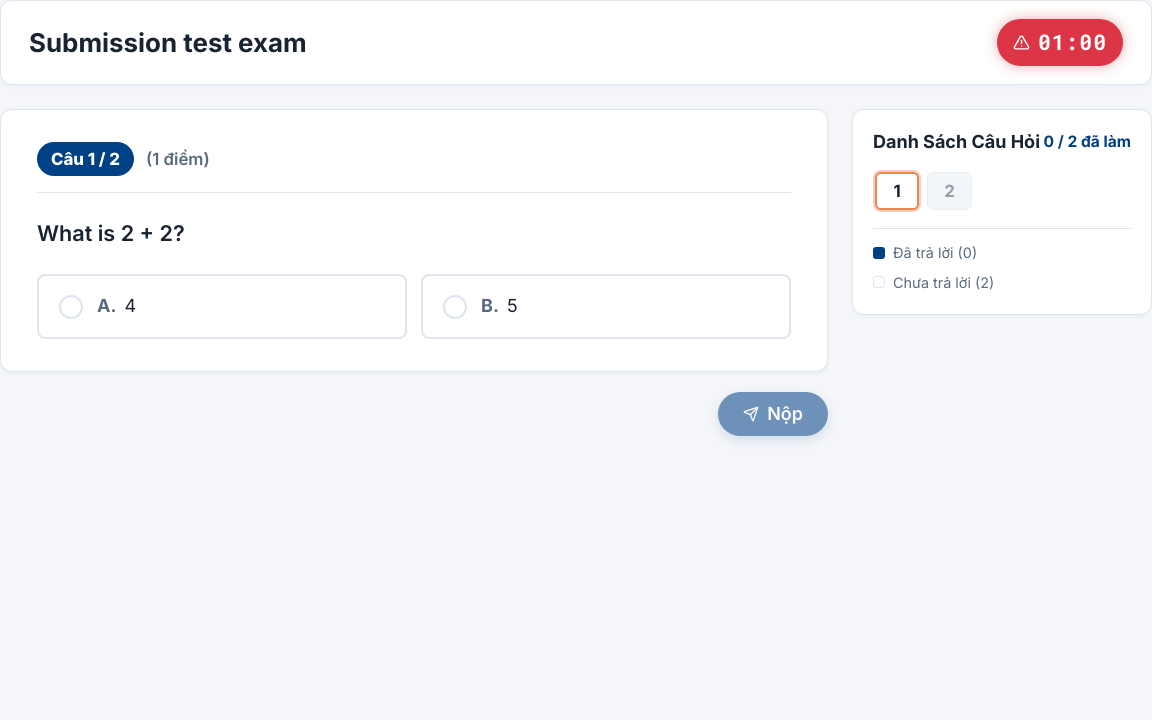
it: SequentialExamTakingView submission flow › shows incorrect feedback and waits for Continue without auto-advancing
Click the button "B. 5". click: (455, 307)
box: [421, 274, 791, 339]
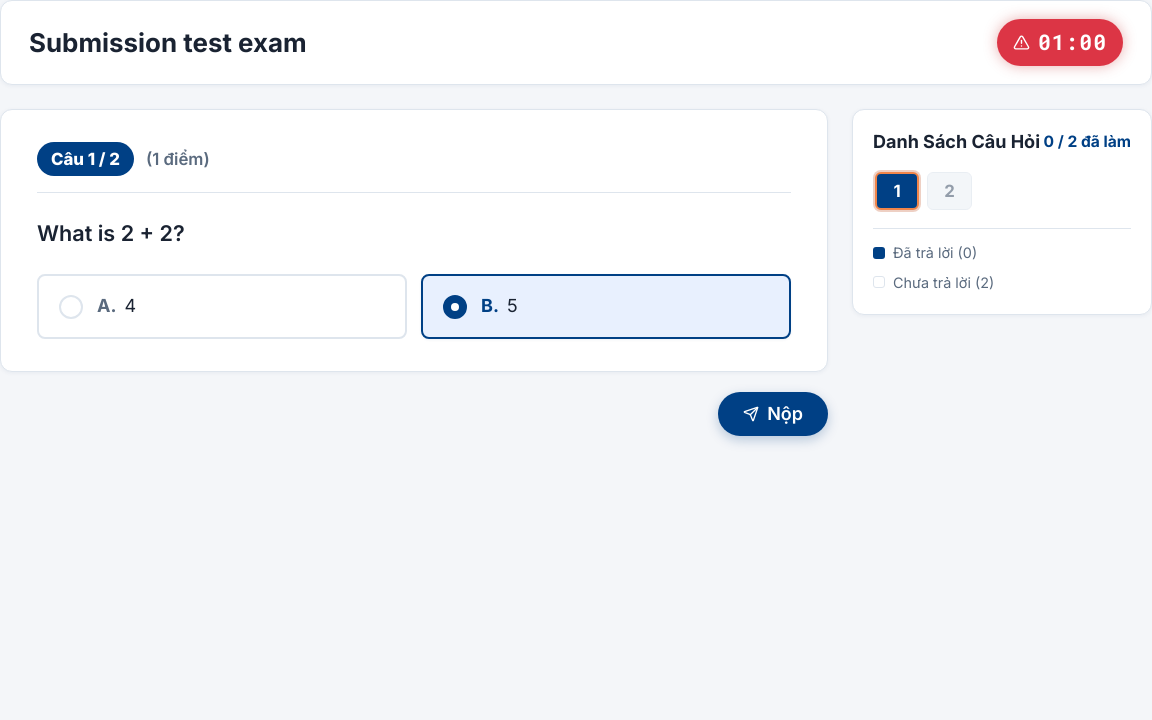
Click the button "Nộp". click: (773, 414)
box: [718, 392, 828, 436]
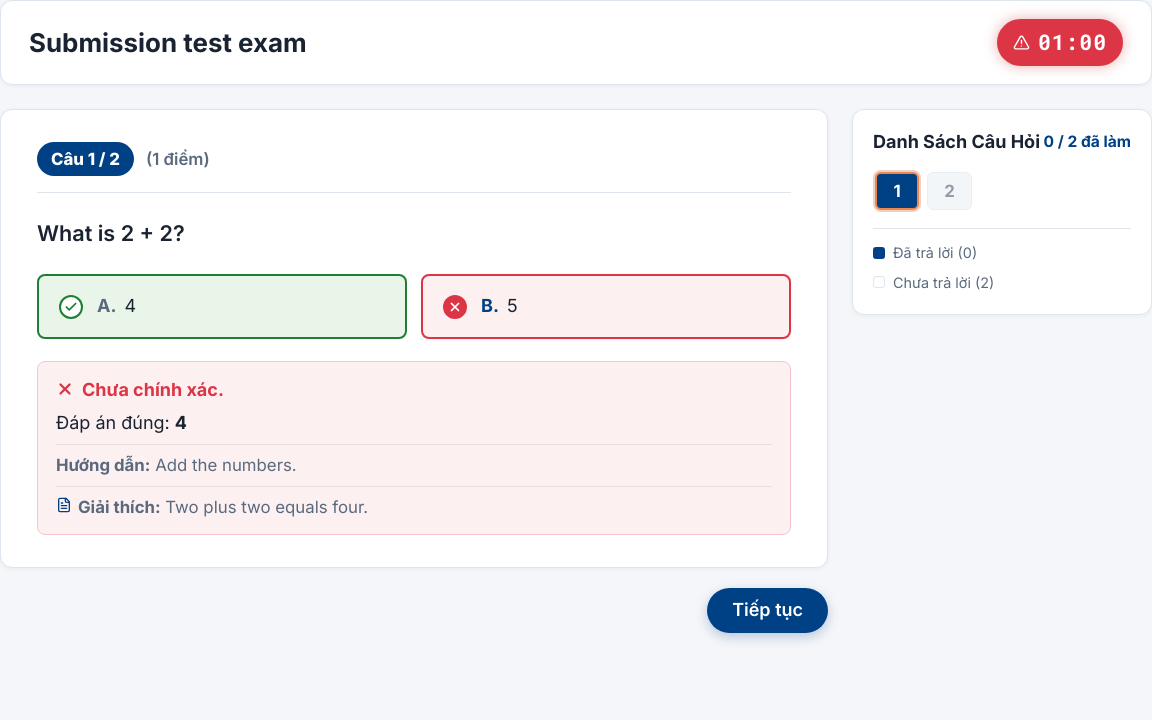
Result: the text "Đáp án đúng:" is shown at [56, 412, 175, 433]
Result: the text "Hướng dẫn:" is shown at [56, 455, 150, 475]
Result: the text "Giải thích:" is shown at [78, 497, 161, 517]
